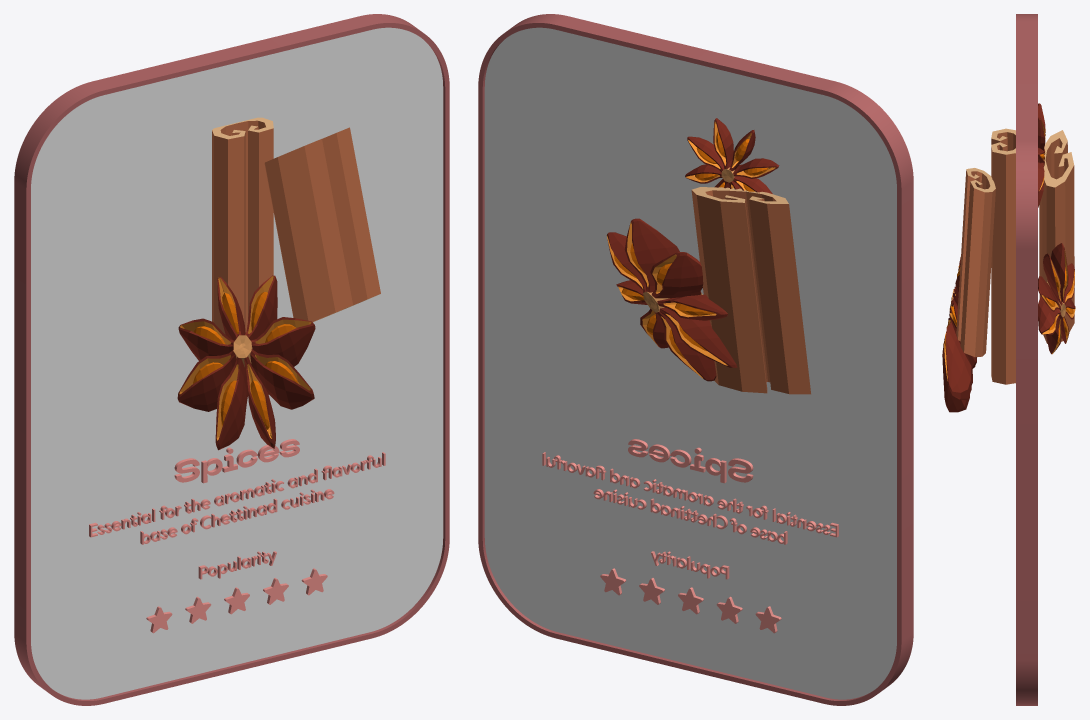
Rendered from spices.glb.
3 renders of one model, left to right at view 1: azimuth 30°, elevation 25°; view 2: azimuth 150°, elevation 25°; view 3: azimuth 270°, elevation 25°, orthographic. The views are drawn at different scales.
Parts seen in each view (by area): view 1: Mesh_983.002, Mesh_2360.002, cinnamon stick.001, starAnise, cinnamon stick, Mesh_2567.002, Mesh_2660.001, Mesh_2167.002; view 2: Mesh_983.002, Mesh_2360.002, cinnamon stick.002, starAnise.002, Mesh_2567.002, starAnise.001, Mesh_2660.001, Mesh_2167.002; view 3: Mesh_2360.002, cinnamon stick, cinnamon stick.001, cinnamon stick.002, starAnise.002, starAnise, starAnise.001.
Part boxes in pixels (x1,y1,x2,y2): Mesh_983.002: [31, 27, 443, 699]; Mesh_2360.002: [14, 14, 449, 705]; cinnamon stick.001: [264, 127, 380, 321]; starAnise: [177, 275, 315, 450]; cinnamon stick: [212, 117, 273, 334]; Mesh_2567.002: [89, 452, 385, 579]; Mesh_2660.001: [146, 568, 327, 633]; Mesh_2167.002: [174, 439, 299, 483]; Mesh_983.002: [484, 27, 896, 699]; Mesh_2360.002: [478, 14, 913, 705]; cinnamon stick.002: [691, 187, 810, 394]; starAnise.002: [606, 218, 737, 381]; Mesh_2567.002: [542, 452, 838, 579]; starAnise.001: [685, 118, 779, 193]; Mesh_2660.001: [600, 568, 781, 633]; Mesh_2167.002: [628, 439, 753, 483]; Mesh_2360.002: [1016, 14, 1037, 705]; cinnamon stick: [991, 128, 1015, 384]; cinnamon stick.001: [956, 168, 995, 357]; cinnamon stick.002: [1039, 130, 1074, 343]; starAnise.002: [1038, 243, 1075, 354]; starAnise: [942, 257, 977, 412]; starAnise.001: [1038, 103, 1045, 207].
Bounding box in the file's own units: 9.06 × 12.55 × 2.72.
